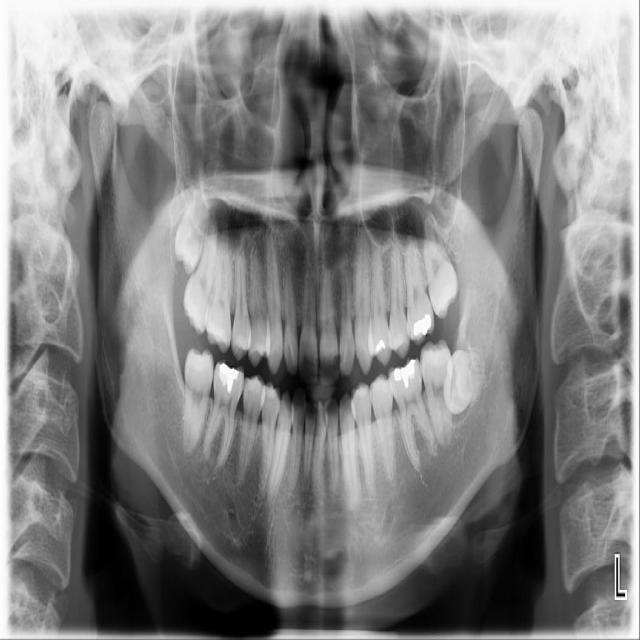3M ESPE Implant: (172, 187, 211, 273)
52: (385, 357, 427, 404), (211, 363, 245, 406), (407, 297, 434, 346), (369, 320, 392, 366)
73: (614, 582, 620, 597)
BioLife Implant: (409, 198, 463, 320)
Biomet 3i Implant: (440, 347, 492, 418)
Blue Sky Bio Implant: (417, 339, 456, 388)
Caries: (178, 218, 222, 337)
Implant: (181, 349, 213, 455)
